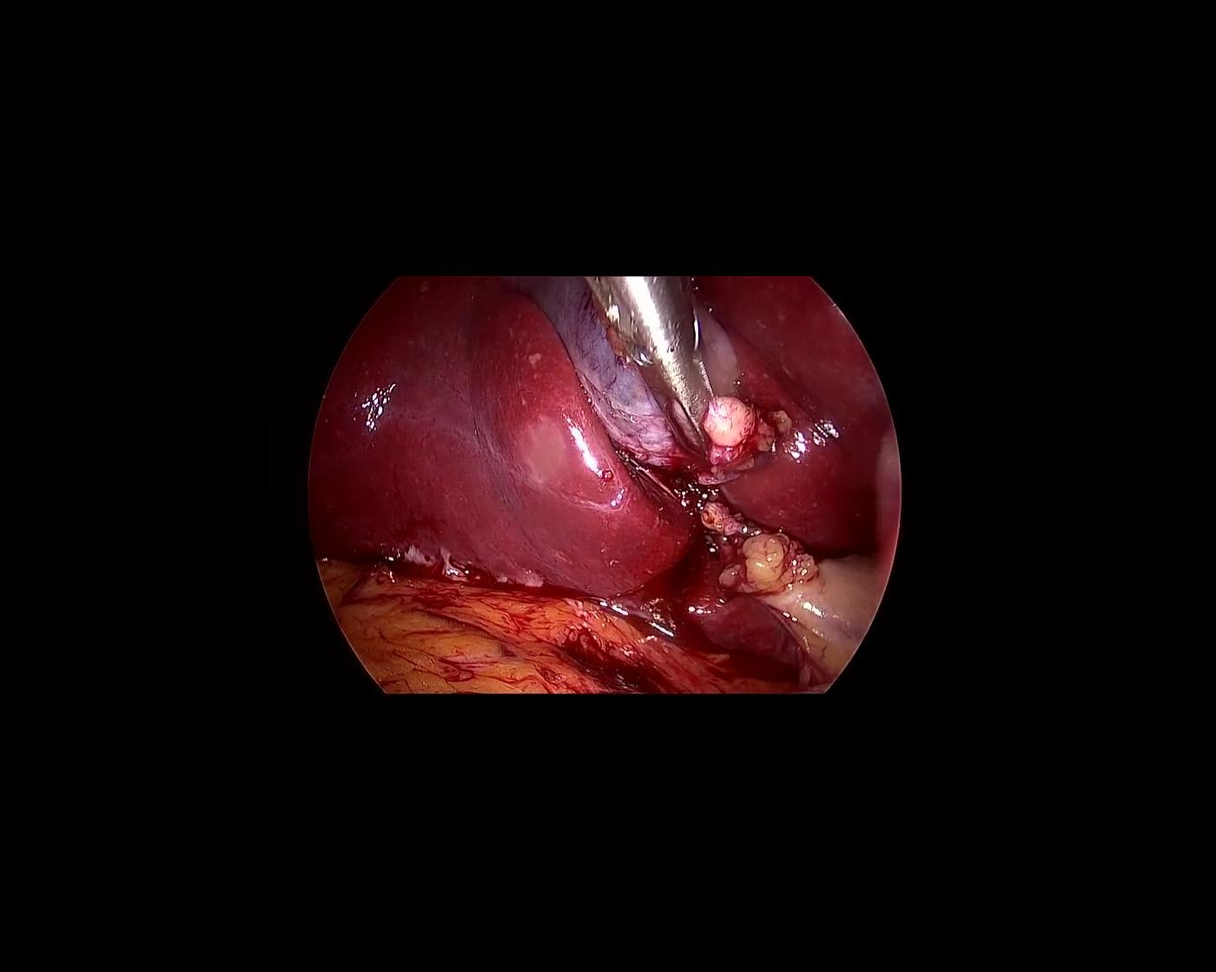Forceps: (584, 252, 736, 480)
Gallbladder: (508, 246, 689, 492)
Liver: (311, 275, 696, 599), (692, 272, 896, 560)
